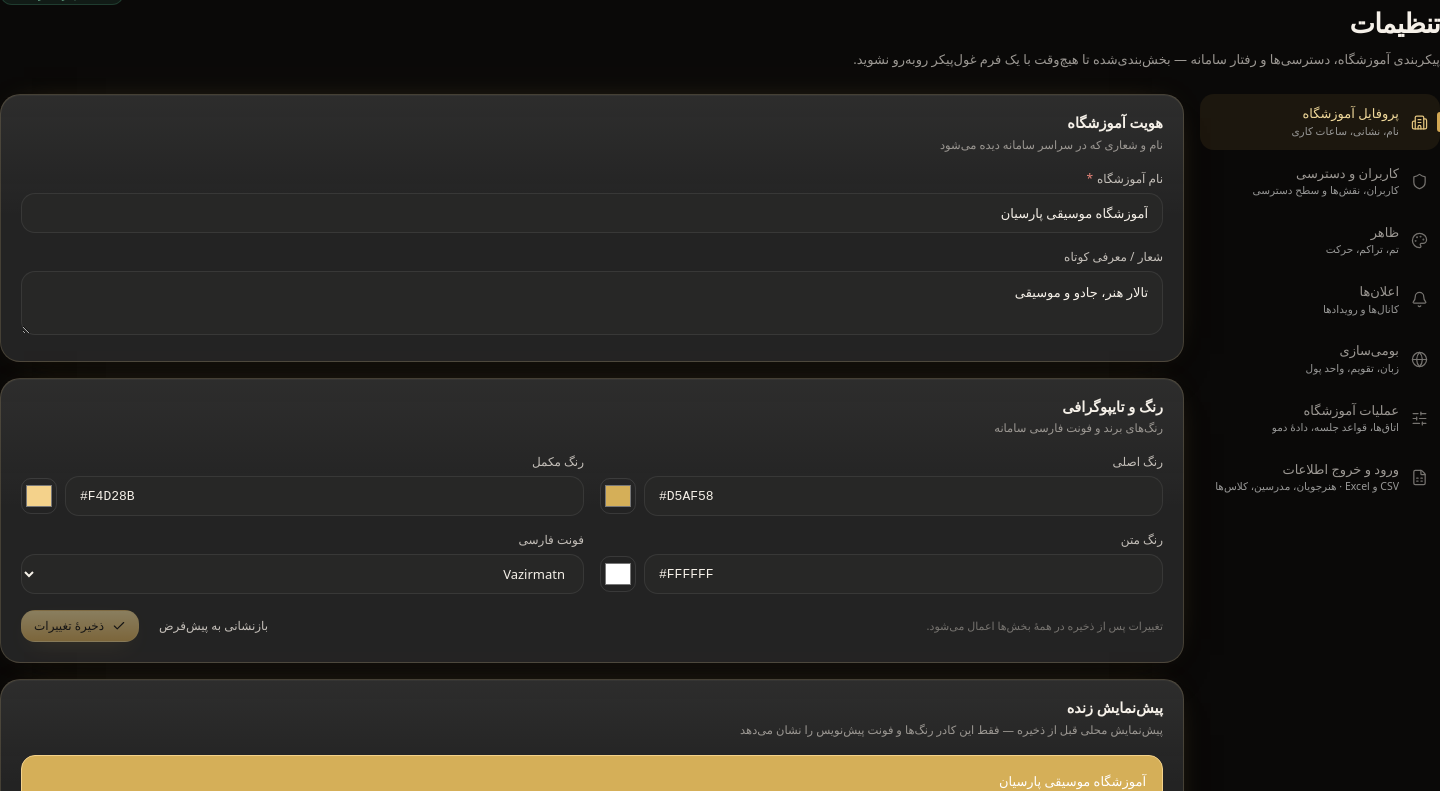
Test: M-6 API-mode unavailable disclosed › the rules panel says where its record lives, per environment
Step 1. Click the button "عملیات آموزشگاه اتاق‌ها، قواعد جلسه، دادهٔ دمو" → (1320, 418), box [1200,391,1439,446]
(page scrolled)
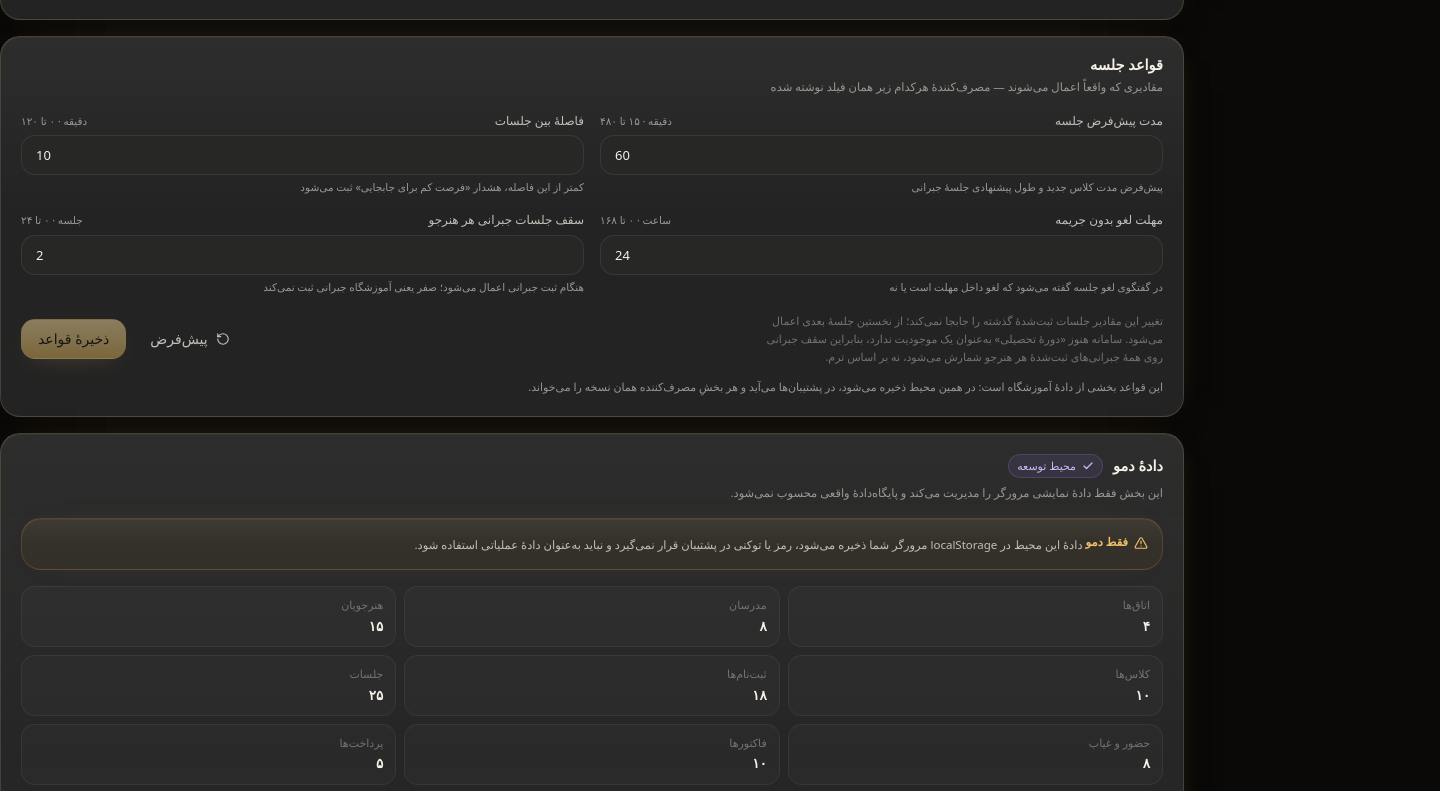
expect the field labelled "مدت پیش‌فرض جلسه دقیقه · ۱۵ تا ۴۸۰" is shown: met, box [600,135,1163,175]
expect the text "در همین محیط ذخیره می‌شود" is shown: met, box [528,379,1163,394]
